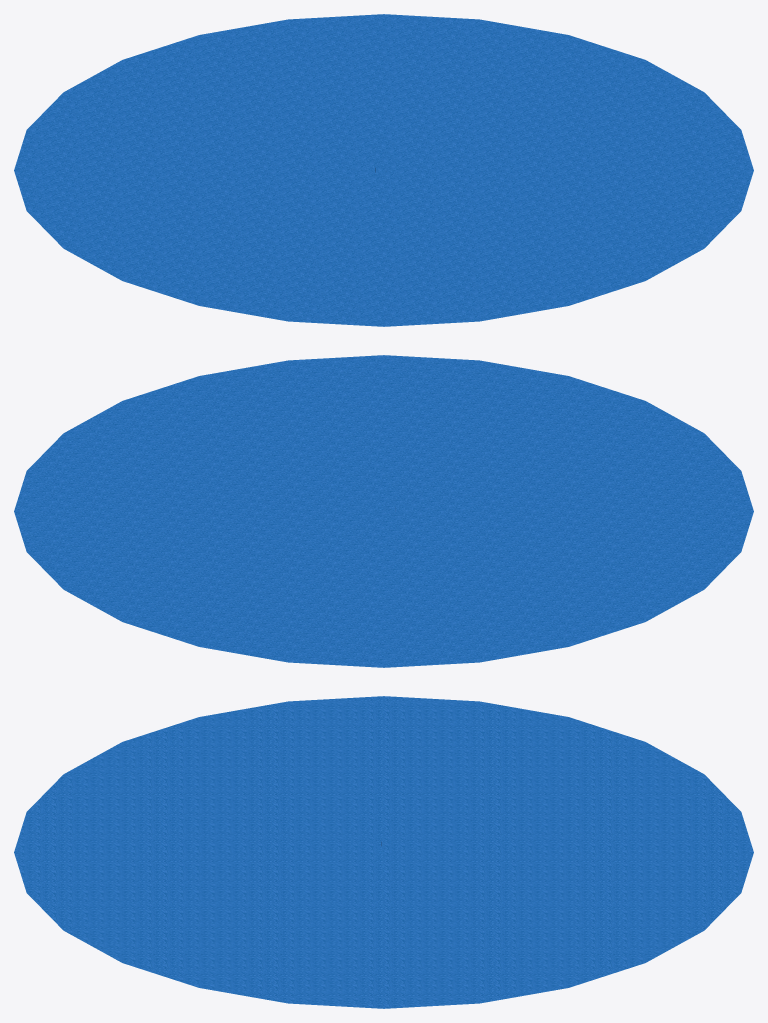
The model's file is FP_jog_island.md.022.obj.
3 views of the same model, one above another, from view 1: azimuth 30°, elevation 25°; view 2: azimuth 150°, elevation 25°; view 3: azimuth 270°, elevation 25° (orthographic).
Visible parts, largest first — view 1: FP_jog_island.mo.022; view 2: FP_jog_island.mo.022; view 3: FP_jog_island.mo.022.
Part boxes in pixels (x1,y1,x2,y2): FP_jog_island.mo.022: (14, 14, 753, 326); FP_jog_island.mo.022: (14, 355, 753, 667); FP_jog_island.mo.022: (14, 696, 753, 1008).
Size of the model in its own units: 1400 by 13.49 by 1400.
1 material, 1 textured.
